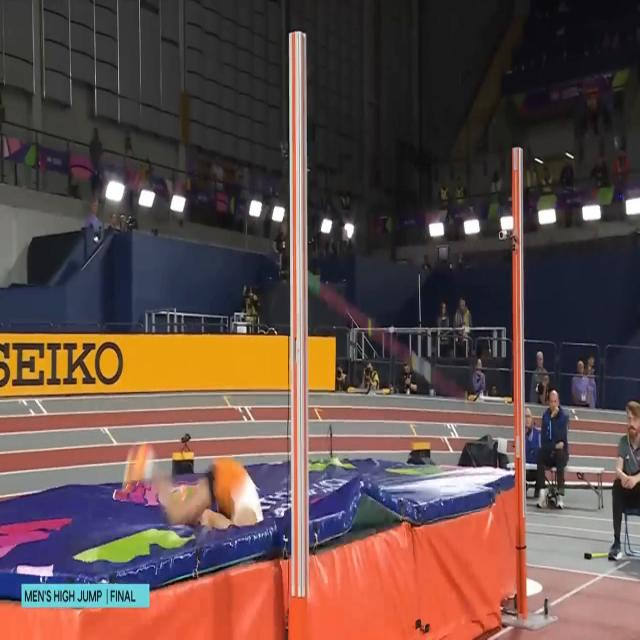land: (121, 440, 265, 531)
